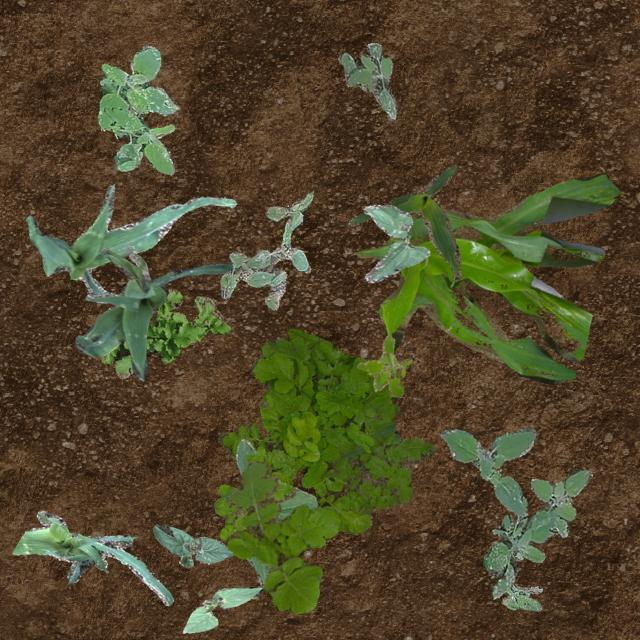crop: (356, 172, 620, 382), (24, 184, 236, 294), (76, 247, 232, 381), (11, 510, 172, 604), (346, 162, 461, 278), (235, 438, 316, 586), (362, 204, 428, 282), (182, 584, 262, 632), (152, 524, 232, 566)
weed: (218, 328, 400, 534), (438, 426, 592, 598), (225, 460, 342, 612), (100, 288, 230, 378), (332, 402, 434, 514), (220, 192, 312, 308), (96, 44, 178, 174), (212, 452, 294, 540), (338, 42, 396, 120), (356, 334, 410, 396), (501, 550, 542, 610)
